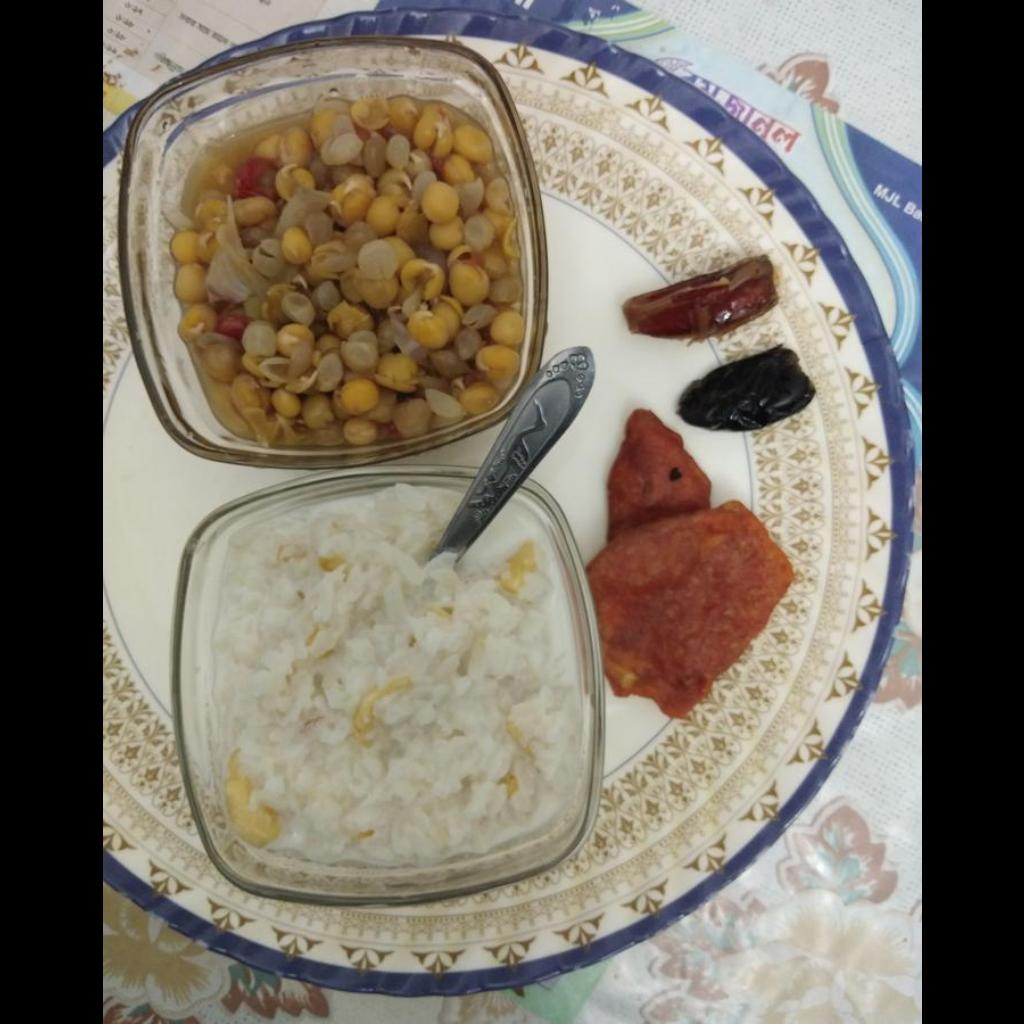beguni: (588, 405, 792, 715)
daal: (171, 97, 523, 446)
dates: (622, 255, 774, 338), (677, 345, 813, 431)
